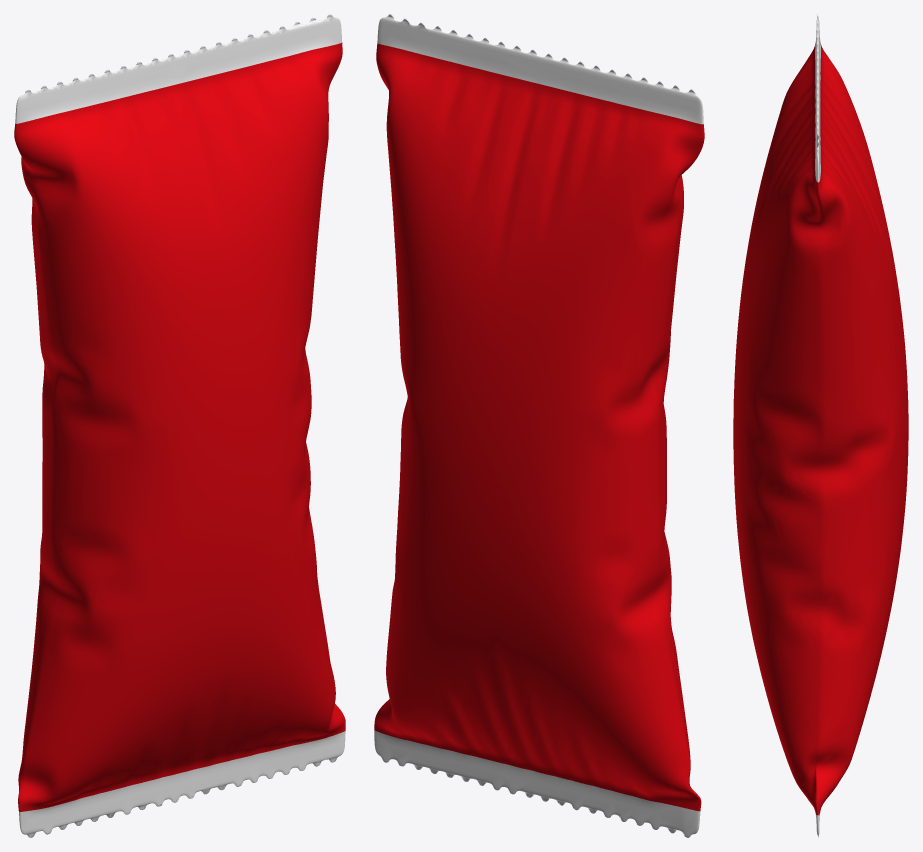
The model's file is package-opt.glb.
3 views of the same model, side by side, from view 1: azimuth 30°, elevation 25°; view 2: azimuth 150°, elevation 25°; view 3: azimuth 270°, elevation 25° (orthographic). The views are drawn at different scales.
Parts seen in each view (by area): view 1: Object_4, Object_5; view 2: Object_4, Object_5; view 3: Object_4, Object_5.
Part boxes in pixels (left/top/right/bottom): Object_4: left=14, top=42, right=345, bottom=811; Object_5: left=15, top=14, right=345, bottom=837; Object_4: left=374, top=43, right=704, bottom=811; Object_5: left=374, top=14, right=703, bottom=837; Object_4: left=733, top=43, right=908, bottom=815; Object_5: left=815, top=14, right=820, bottom=837.
Bounding box in the file's own units: 0.9755 × 2.12 × 0.4883.
